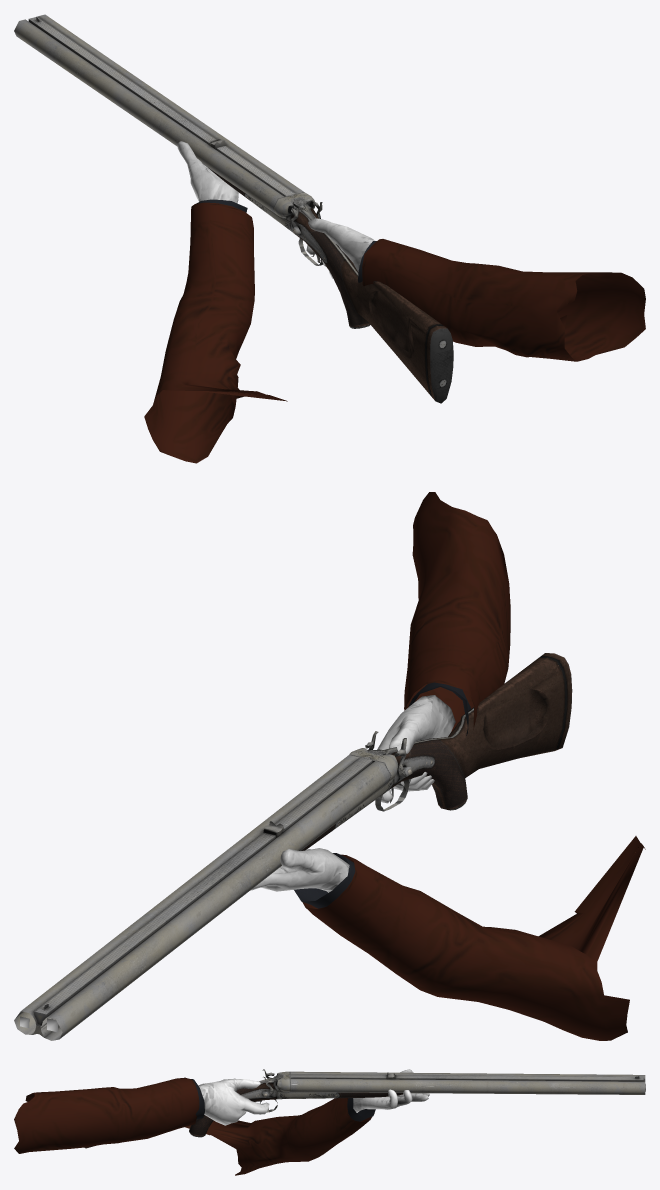
File: frame_30.obj
3 renders of one model, top to bottom at view 1: azimuth 30°, elevation 25°; view 2: azimuth 150°, elevation 25°; view 3: azimuth 270°, elevation 25°, orthographic. The views are drawn at different scales.
Visible parts, largest first — view 1: PlayerModelMerged.001_PlayerModelMerged, double_-_barreled_shotgun_L_double_-_barreled_shotgun_LP_к.002, double_-_barreled_shotgun_L_double_-_barreled_shotgun_LP_к.001; view 2: PlayerModelMerged.001_PlayerModelMerged, double_-_barreled_shotgun_L_double_-_barreled_shotgun_LP_к.002, double_-_barreled_shotgun_L_double_-_barreled_shotgun_LP_к.001; view 3: PlayerModelMerged.001_PlayerModelMerged, double_-_barreled_shotgun_L_double_-_barreled_shotgun_LP_к.002, double_-_barreled_shotgun_L_double_-_barreled_shotgun_LP_к.001.
Boxes of the visible parts, box(x1,y1,x2,y2) form: PlayerModelMerged.001_PlayerModelMerged: box(144, 141, 645, 463); double_-_barreled_shotgun_L_double_-_barreled_shotgun_LP_к.002: box(14, 14, 303, 213); double_-_barreled_shotgun_L_double_-_barreled_shotgun_LP_к.001: box(208, 168, 453, 403); PlayerModelMerged.001_PlayerModelMerged: box(250, 492, 645, 1040); double_-_barreled_shotgun_L_double_-_barreled_shotgun_LP_к.002: box(14, 755, 390, 1040); double_-_barreled_shotgun_L_double_-_barreled_shotgun_LP_к.001: box(301, 653, 572, 850); PlayerModelMerged.001_PlayerModelMerged: box(14, 1069, 429, 1175); double_-_barreled_shotgun_L_double_-_barreled_shotgun_LP_к.002: box(290, 1071, 645, 1094); double_-_barreled_shotgun_L_double_-_barreled_shotgun_LP_к.001: box(85, 1069, 403, 1148).
Size of the model in its own units: 0.8474 by 0.5724 by 2.
